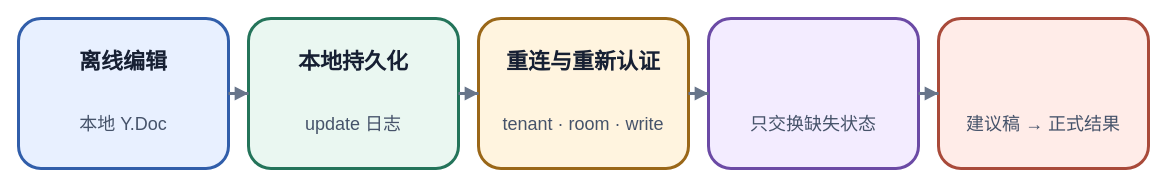
Image size: 1167x187. Some labels were removed from this diagram. Here are the shapes that lost their labels. From the top down, the box of each, then its label:
(706, 16, 920, 170): state vector diff
(936, 16, 1150, 170): 审阅后提升
